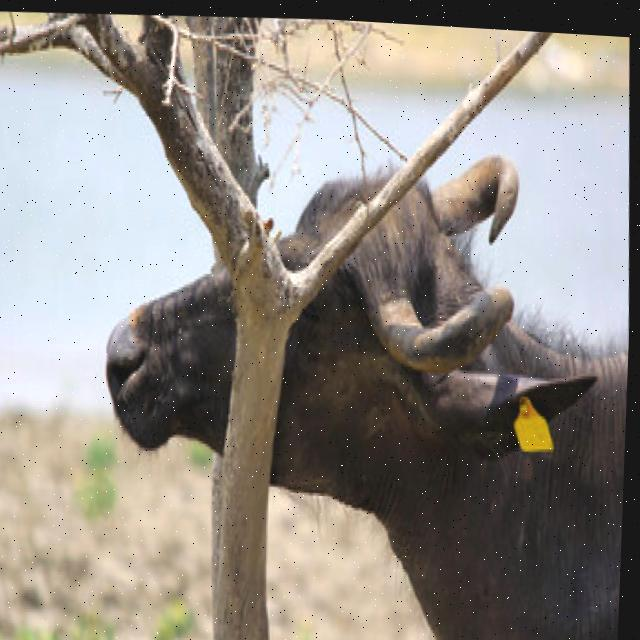Buffalo: (83, 121, 636, 640)
